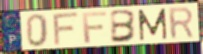0: (25, 13, 49, 48)
B: (110, 9, 138, 44)
F: (52, 10, 80, 47), (81, 10, 108, 44)
M: (137, 7, 169, 42)
R: (167, 6, 196, 41)
